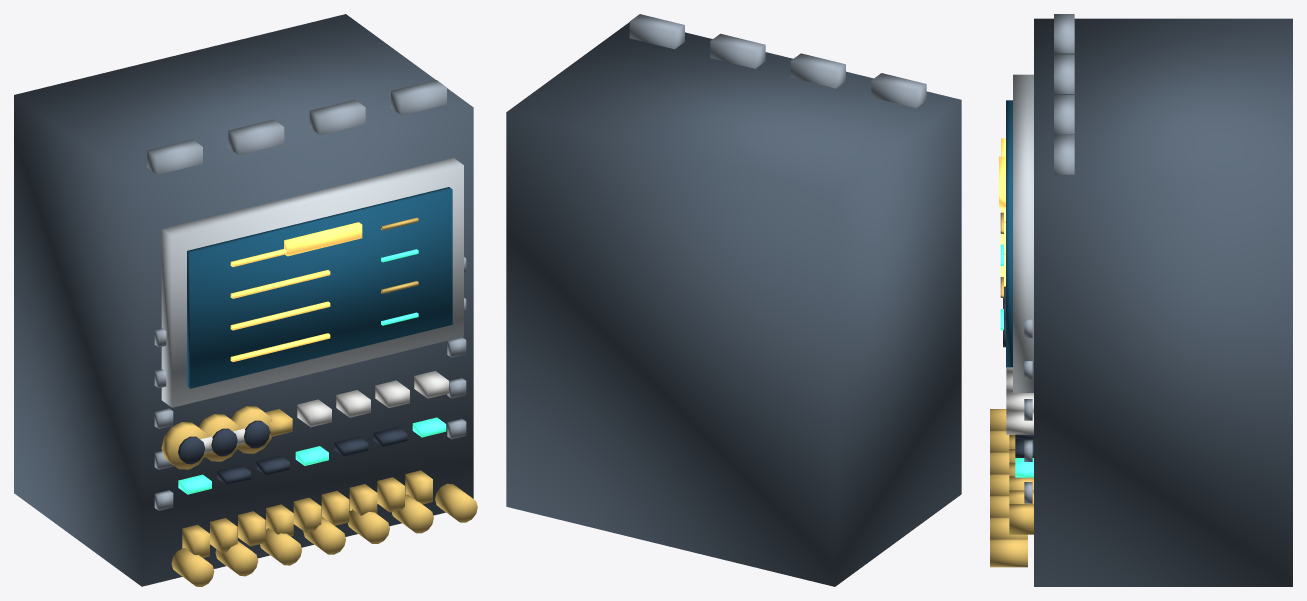
Rendered from 63_L87_HabitatThermalControlLoad.glb.
3 views of the same model, side by side, from view 1: azimuth 30°, elevation 25°; view 2: azimuth 150°, elevation 25°; view 3: azimuth 270°, elevation 25° (orthographic). The views are drawn at different scales.
Parts seen in each view (by area): view 1: L87_HabitatThermalControlLoad, L87_HabitatThermalControlLoad_Part_0010, L87_HabitatThermalControlLoad_Part_0011, L87_HabitatThermalControlLoad_Part_0012, L87_HabitatThermalControlLoad_Part_0016, L87_HabitatThermalControlLoad_Part_0014, L87_HabitatThermalControlLoad_Part_0013; view 2: L87_HabitatThermalControlLoad, L87_HabitatThermalControlLoad_Part_0010; view 3: L87_HabitatThermalControlLoad, L87_HabitatThermalControlLoad_Part_0010.
Part boxes in pixels (x1=…): L87_HabitatThermalControlLoad: x1=14, y1=14, x2=477, y2=586; L87_HabitatThermalControlLoad_Part_0010: x1=147, y1=80, x2=446, y2=174; L87_HabitatThermalControlLoad_Part_0011: x1=284, y1=222, x2=362, y2=256; L87_HabitatThermalControlLoad_Part_0012: x1=161, y1=422, x2=207, y2=469; L87_HabitatThermalControlLoad_Part_0016: x1=231, y1=406, x2=272, y2=453; L87_HabitatThermalControlLoad_Part_0014: x1=198, y1=414, x2=239, y2=461; L87_HabitatThermalControlLoad_Part_0013: x1=178, y1=436, x2=205, y2=464; L87_HabitatThermalControlLoad: x1=506, y1=22, x2=961, y2=586; L87_HabitatThermalControlLoad_Part_0010: x1=629, y1=14, x2=926, y2=108; L87_HabitatThermalControlLoad: x1=990, y1=18, x2=1292, y2=586; L87_HabitatThermalControlLoad_Part_0010: x1=1054, y1=14, x2=1074, y2=174.
Bounding box in the file's own units: 1.07 × 1.28 × 0.8347.
